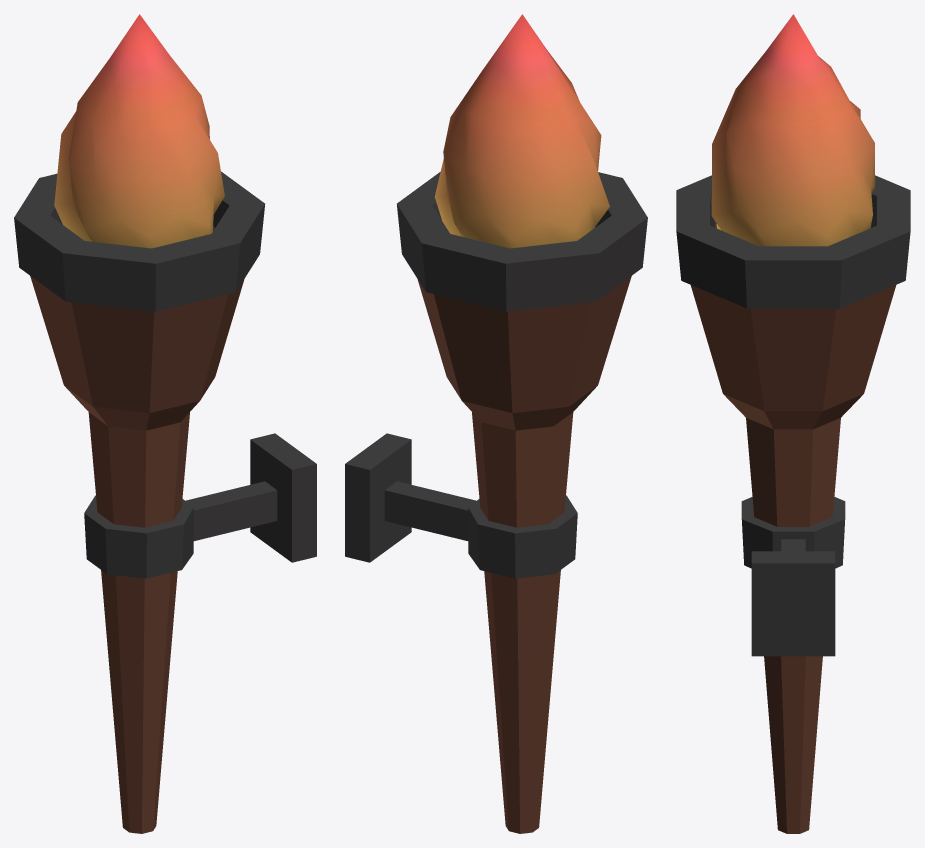
File: TorchAnimated.glb
The picture shows the model from 3 angles, left to right: view 1: azimuth 30°, elevation 25°; view 2: azimuth 150°, elevation 25°; view 3: azimuth 270°, elevation 25°; orthographic projection.
Parts seen in each view (by area): view 1: Torch, AnimatedFlame; view 2: Torch, AnimatedFlame; view 3: Torch, AnimatedFlame.
Part boxes in pixels (left/top/right/bottom): Torch: left=14, top=171, right=316, bottom=833; AnimatedFlame: left=54, top=14, right=224, bottom=248; Torch: left=345, top=172, right=647, bottom=833; AnimatedFlame: left=434, top=14, right=609, bottom=248; Torch: left=676, top=175, right=910, bottom=833; AnimatedFlame: left=711, top=14, right=875, bottom=246.
Bounding box in the file's own units: 0.2585 × 0.7787 × 0.2032.
2 materials, 2 textured.
